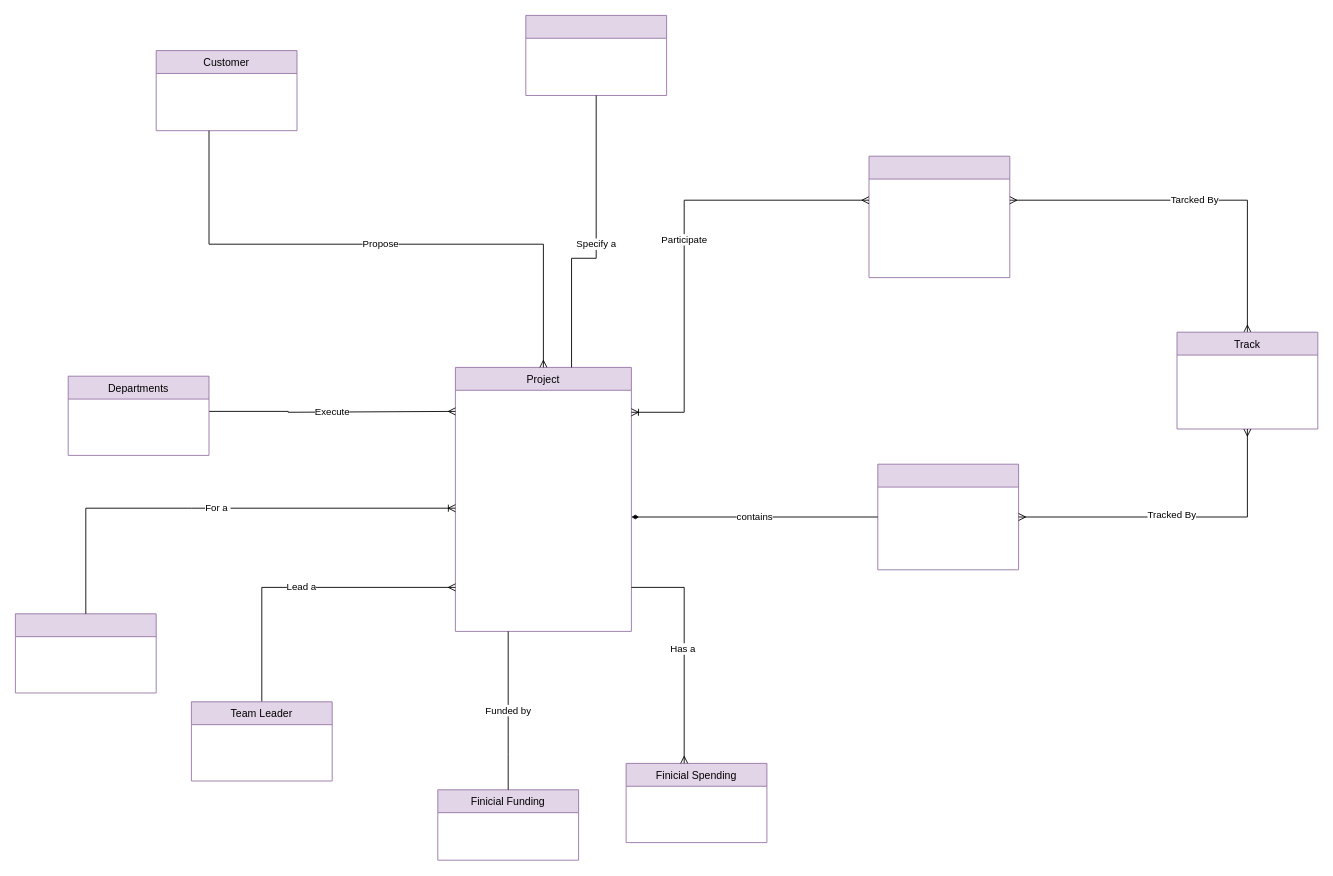
Image size: 1333x876. Some labels were removed from this diagram. Each missing label, with the centre of its shape:
Employee: pixel 939 216
Project Specification: pixel 596 55
Project Type: pixel 85 653
Step: pixel 948 516
